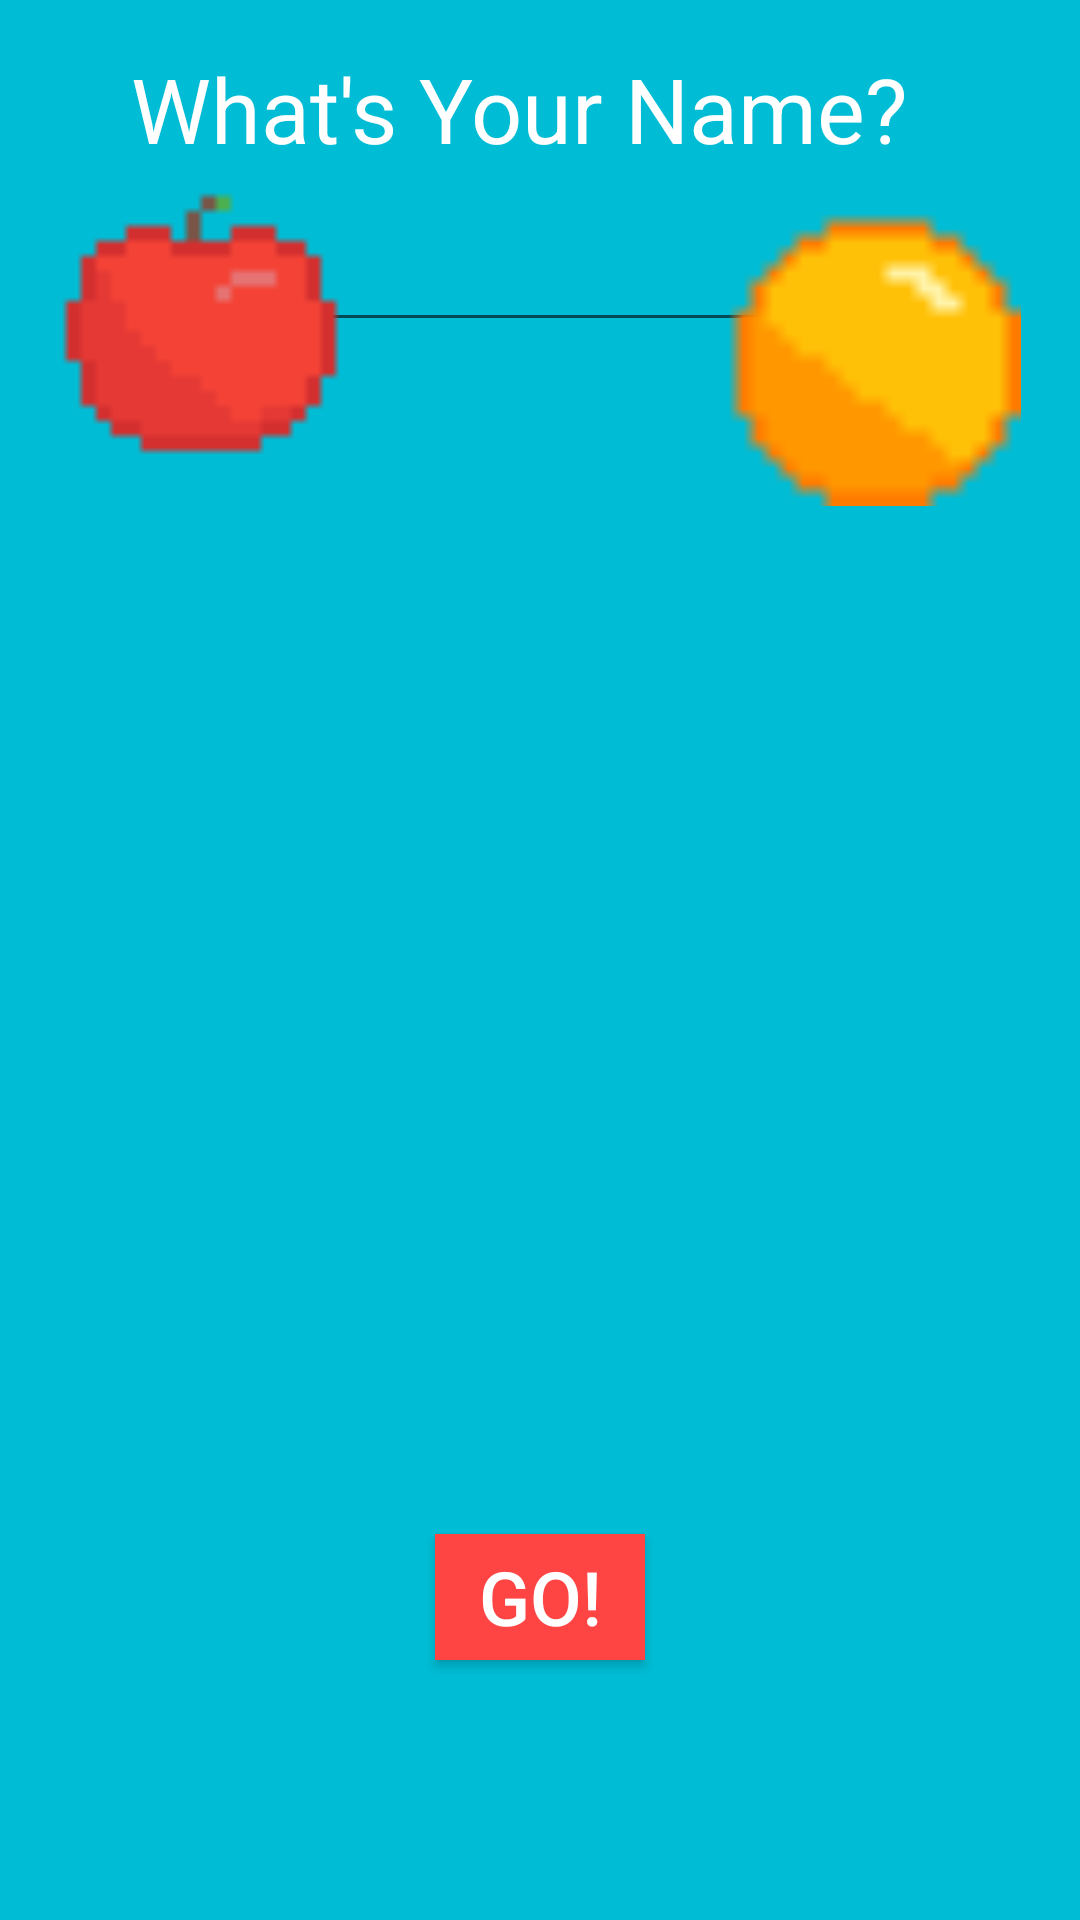

Screen size 1080 x 1920. Icon name, then its center in pixels as (x=x, y=y):
apple: (x=207, y=324)
